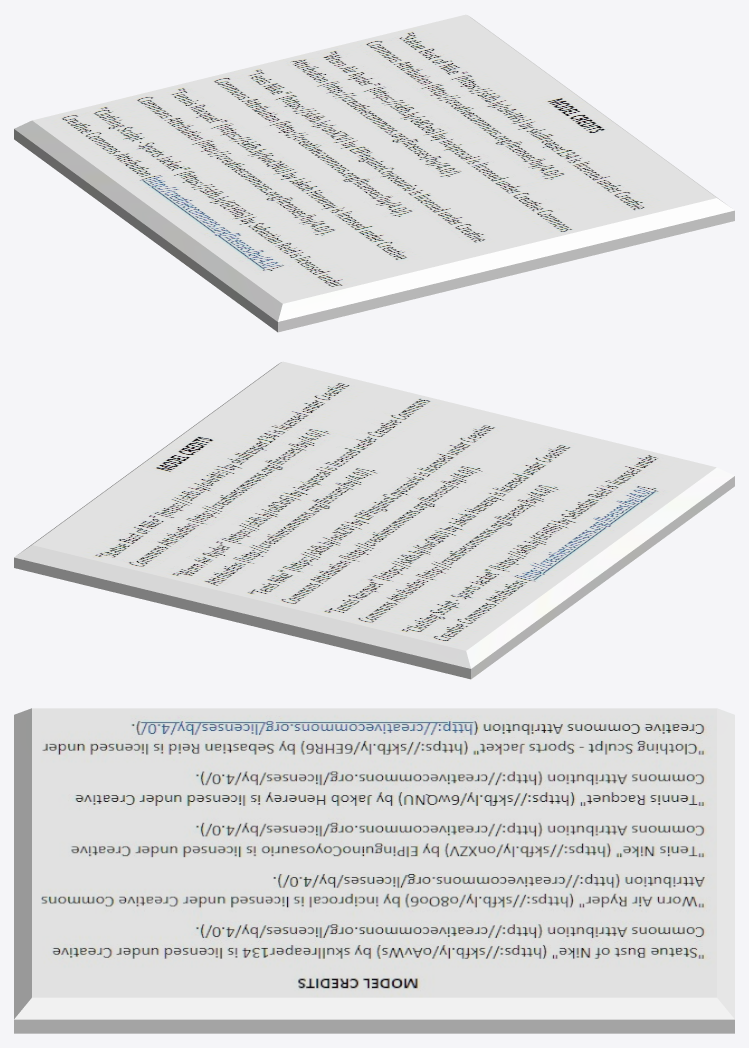
Rendered from CreditsPlaqueV2C2.fbx.
The picture shows the model from 3 angles, top to bottom: view 1: azimuth 30°, elevation 25°; view 2: azimuth 150°, elevation 25°; view 3: azimuth 270°, elevation 25°; orthographic projection. The views are drawn at different scales.
Parts seen in each view (by area): view 1: Plaque; view 2: Plaque; view 3: Plaque.
Part boxes in pixels (x1=…): Plaque: x1=14, y1=14, x2=734, y2=332; Plaque: x1=14, y1=361, x2=734, y2=679; Plaque: x1=14, y1=708, x2=734, y2=1033.
Bounding box in the file's own units: 400 × 17.5 × 400.
